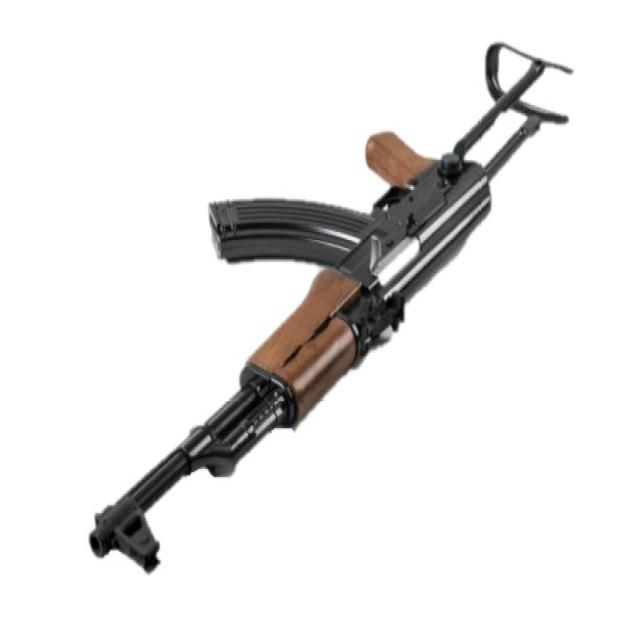rifle: (84, 21, 582, 591)
